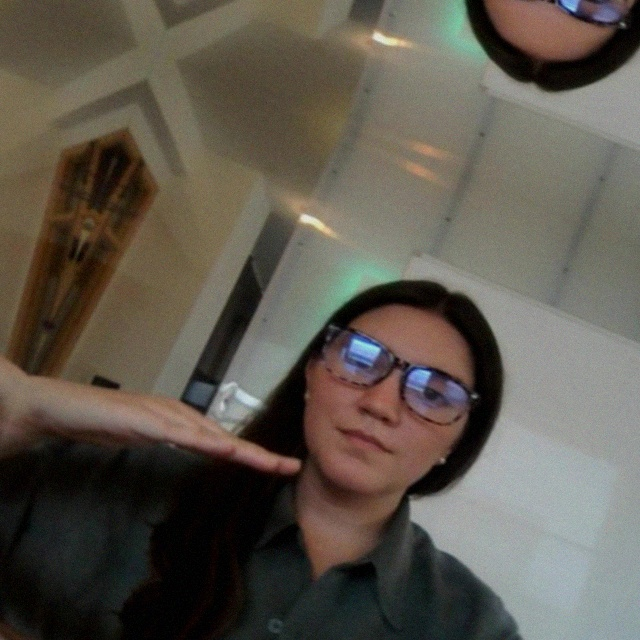Paper: (69, 356, 312, 523)
